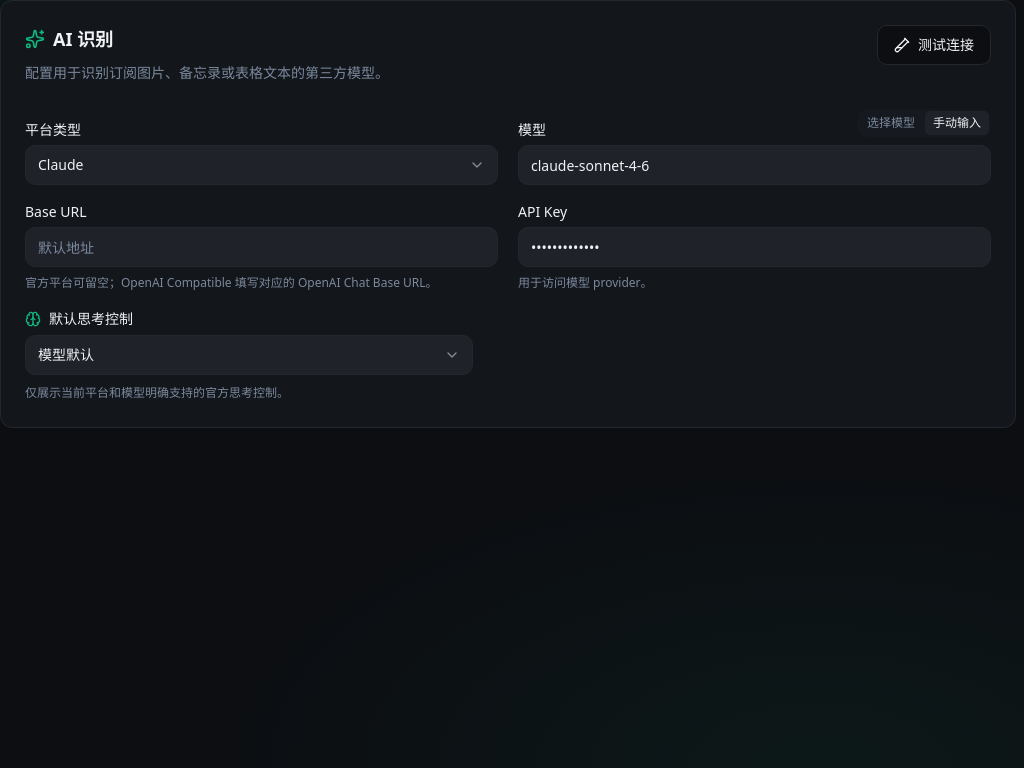
Test: AIRecognitionSettingsSection provider model layout › opens provider response details instead of toast when connection test fails
The image size is (1024, 768).
Step 1. Click the button "测试连接" → (934, 45), box [877, 25, 991, 65]
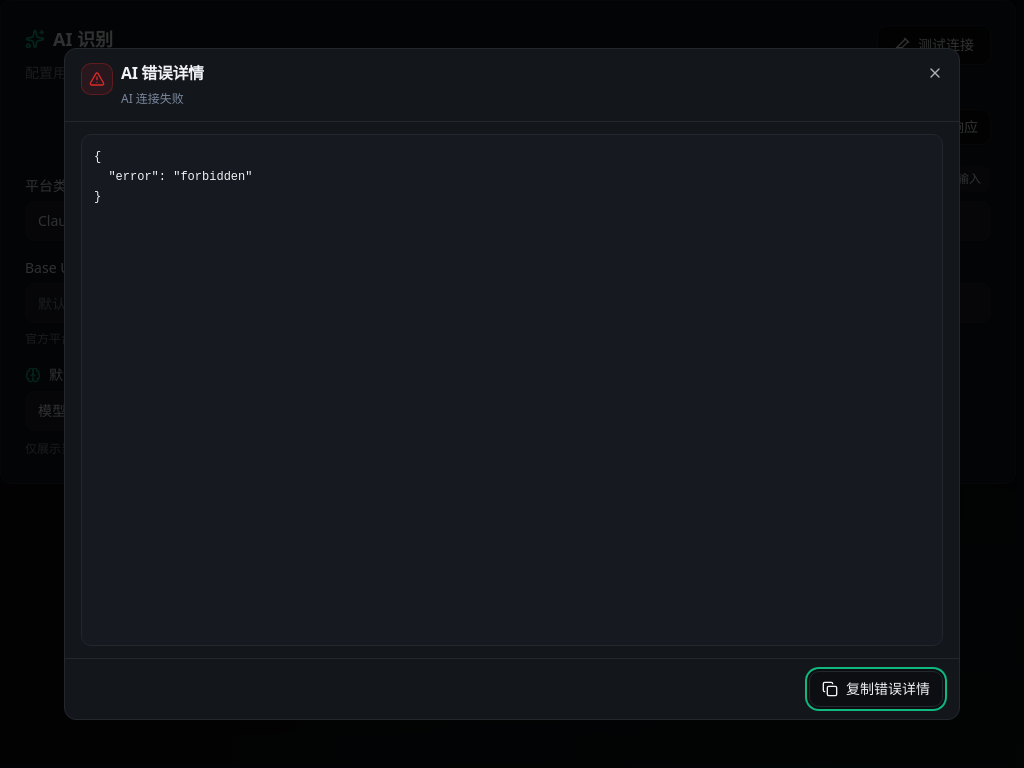
Expected: the dialog "AI 错误详情" is shown
Expected: the text "{ \"error\": \"forbidden\" }" is shown, [81, 134, 943, 646]
